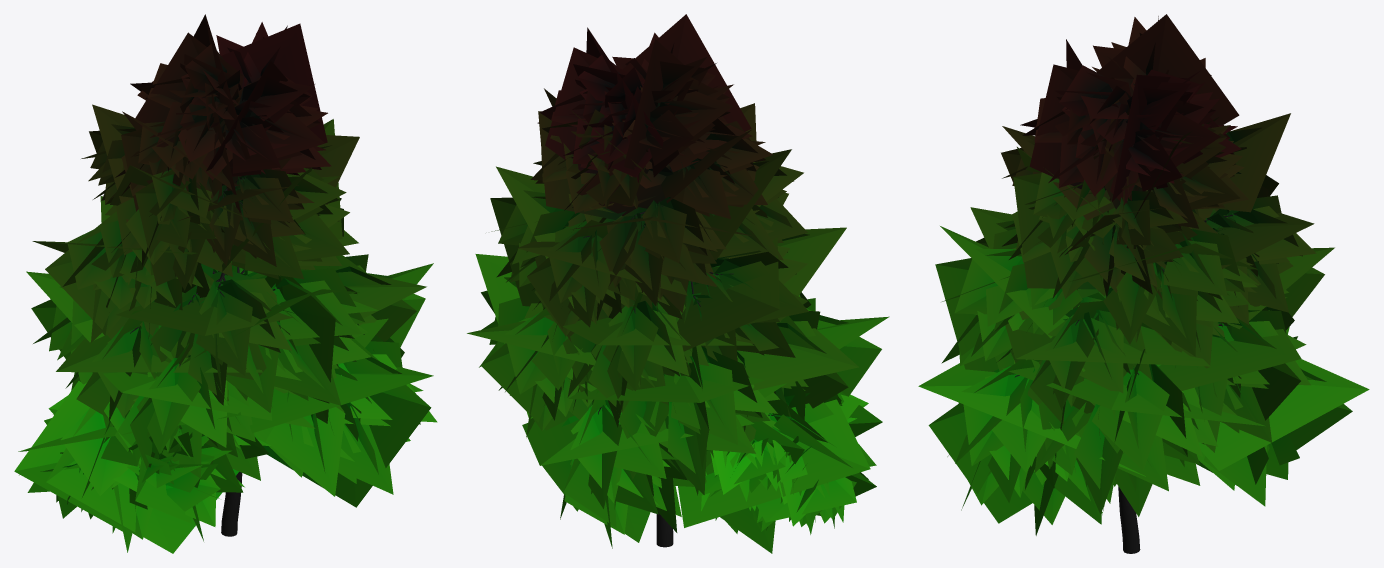
Rendered from birch_tree_1.FBX.
The picture shows the model from 3 angles, left to right: view 1: azimuth 30°, elevation 25°; view 2: azimuth 150°, elevation 25°; view 3: azimuth 270°, elevation 25°; orthographic projection. The views are drawn at different scales.
Visible parts, largest first — view 1: birch_leaves_lod_0, birch_leaves_shadow, birch_trunk_lod_0; view 2: birch_leaves_lod_0, birch_leaves_shadow; view 3: birch_leaves_lod_0, birch_leaves_shadow, birch_trunk_lod_0.
Boxes of the visible parts, <box> form: birch_leaves_lod_0: <box>27,22,437,552</box>; birch_leaves_shadow: <box>14,14,433,553</box>; birch_trunk_lod_0: <box>218,271,242,536</box>; birch_leaves_lod_0: <box>479,32,876,553</box>; birch_leaves_shadow: <box>467,14,889,542</box>; birch_leaves_lod_0: <box>941,17,1326,535</box>; birch_leaves_shadow: <box>918,14,1369,523</box>; birch_trunk_lod_0: <box>1118,486,1140,553</box>.
Size of what is drawn, in the model's own units: 8.75 by 10.47 by 8.04.
